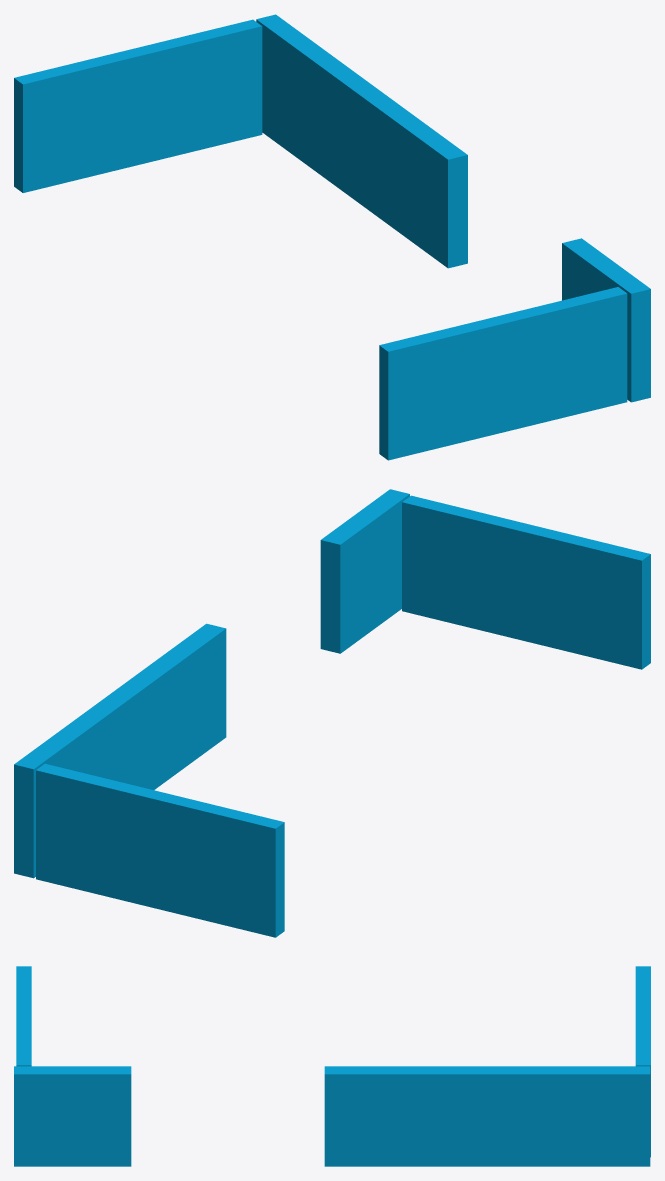
The model's file is Front_02_Collider.fbx.
3 views of the same model, one above another, from view 1: azimuth 30°, elevation 25°; view 2: azimuth 150°, elevation 25°; view 3: azimuth 270°, elevation 25° (orthographic). The views are drawn at different scales.
Parts seen in each view (by area): view 1: Front_02_Collider; view 2: Front_02_Collider; view 3: Front_02_Collider.
Part boxes in pixels (x1,y1,x2,y2): Front_02_Collider: [14, 14, 650, 460]; Front_02_Collider: [14, 489, 650, 937]; Front_02_Collider: [14, 966, 650, 1166].
Bounding box in the file's own units: 243 × 96.65 × 605.
